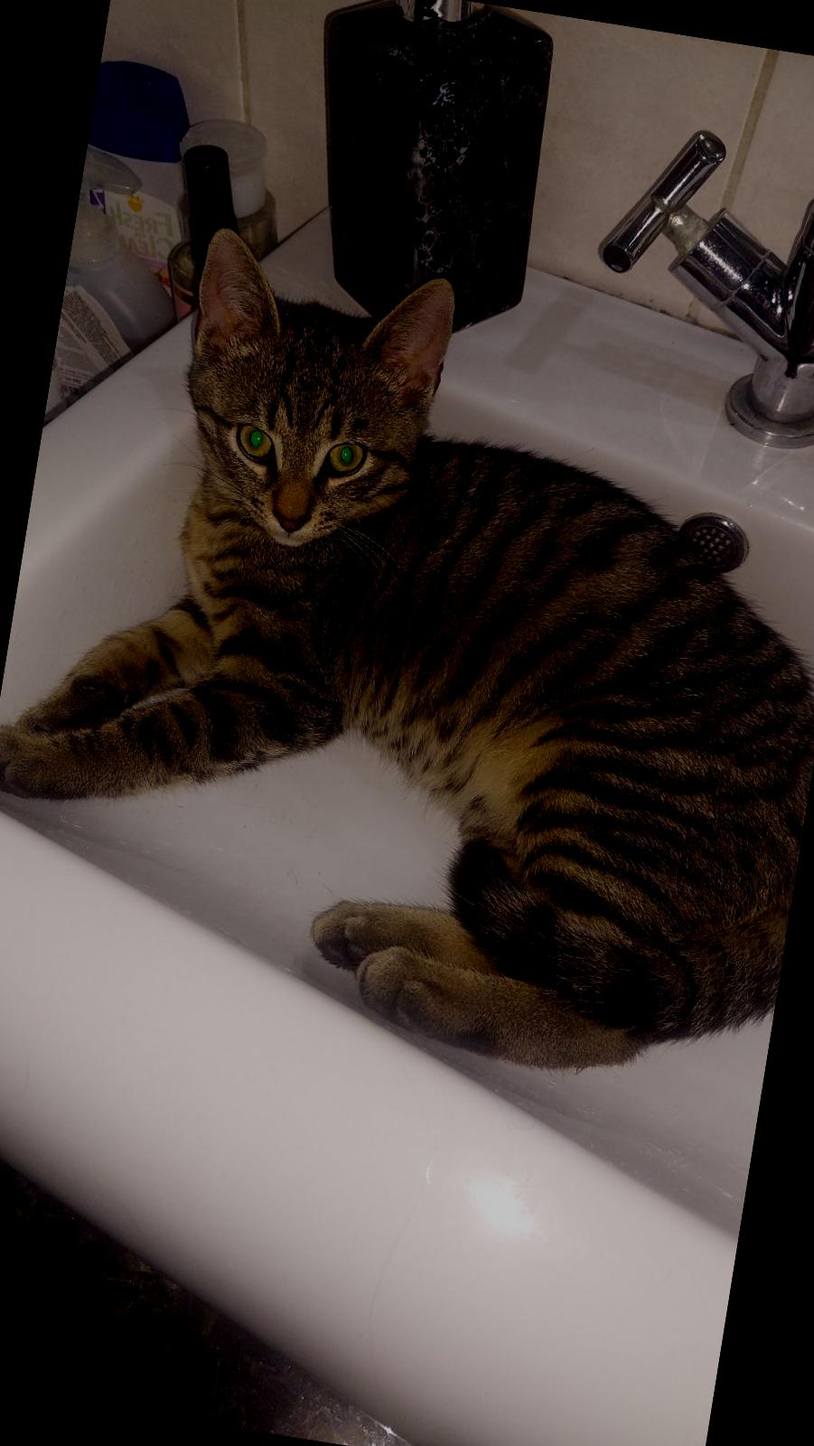macka: (0, 205, 814, 1105)
